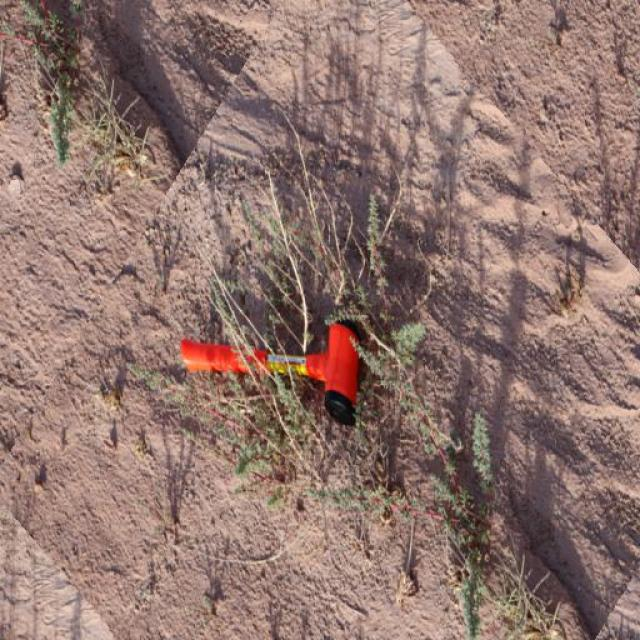mallet: (178, 318, 362, 427)
